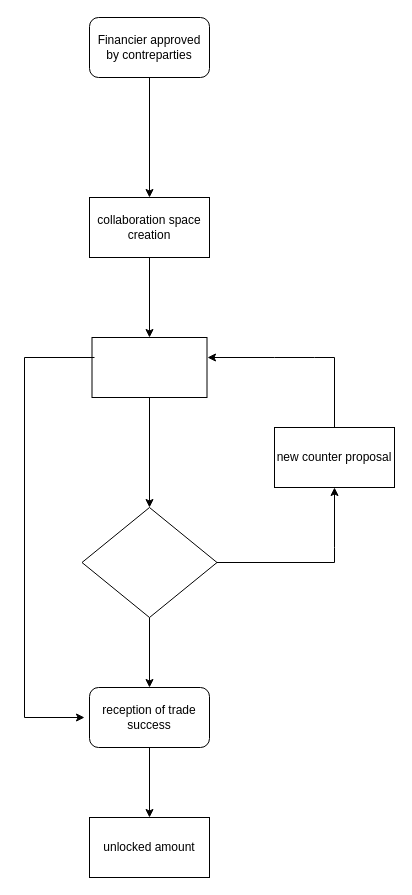
The diagram is 412 pixels wide and 895 high, and some of its shapes have lost their labels. Each missing label, with the centre of its shape:
Buyer: the point at 149,562
Conditions for fiancial agreements: the point at 149,367
